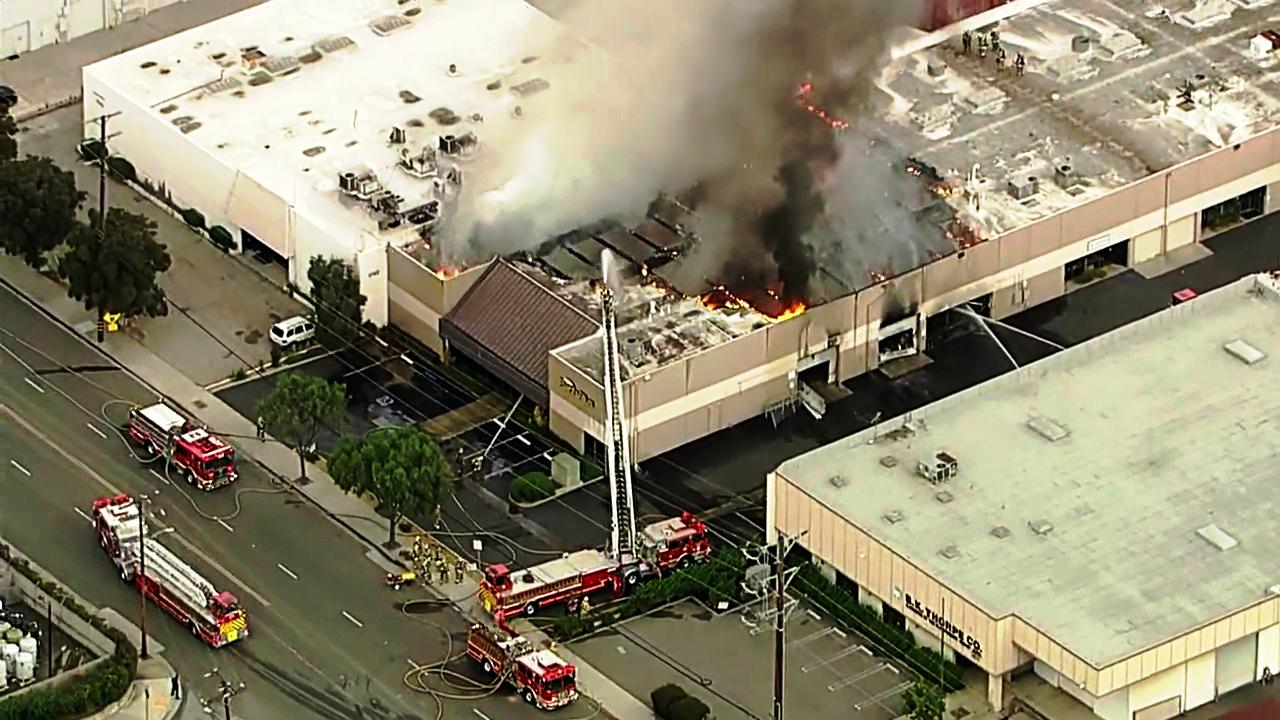smoke: (734, 0, 895, 257)
